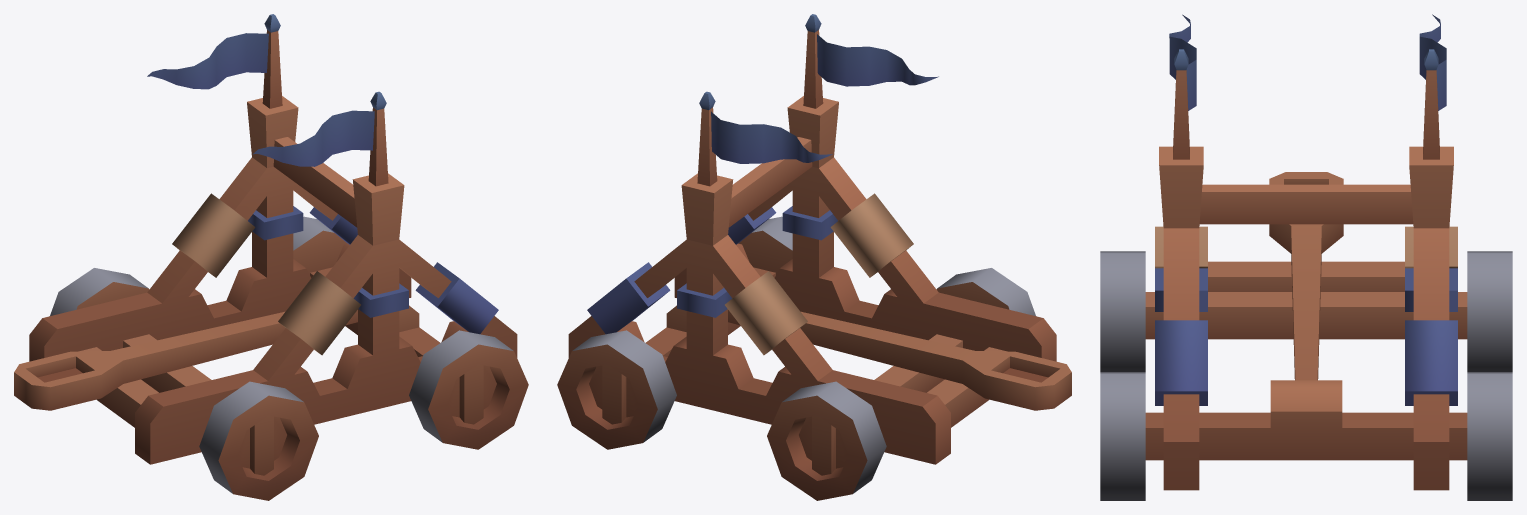
Rendered from siege-catapult.glb.
The picture shows the model from 3 angles, left to right: view 1: azimuth 30°, elevation 25°; view 2: azimuth 150°, elevation 25°; view 3: azimuth 270°, elevation 25°; orthographic projection. The views are drawn at different scales.
Parts seen in each view (by area): view 1: siege-catapult; view 2: siege-catapult; view 3: siege-catapult.
Boxes of the visible parts, <box> form: siege-catapult: <box>14,14,528,500</box>; siege-catapult: <box>557,14,1071,500</box>; siege-catapult: <box>1100,14,1512,500</box>.
Size of the model in its own units: 3.39 by 2.6 by 2.37.
